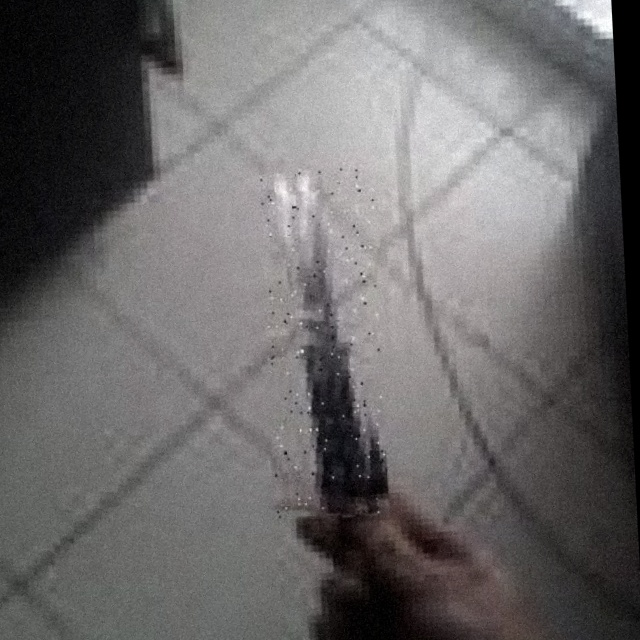Sharp-Object: (260, 164, 390, 518)
